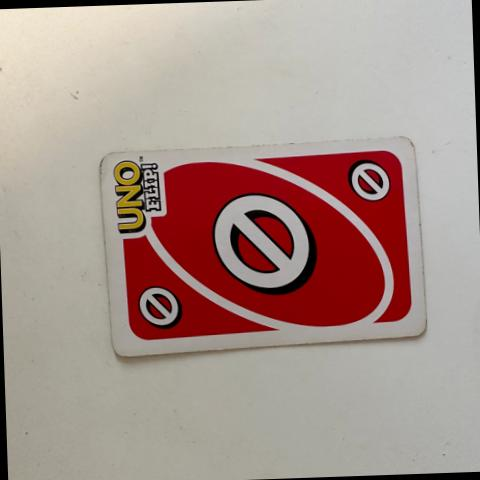2_red: (208, 192, 323, 293), (134, 285, 184, 328), (348, 158, 391, 204)
